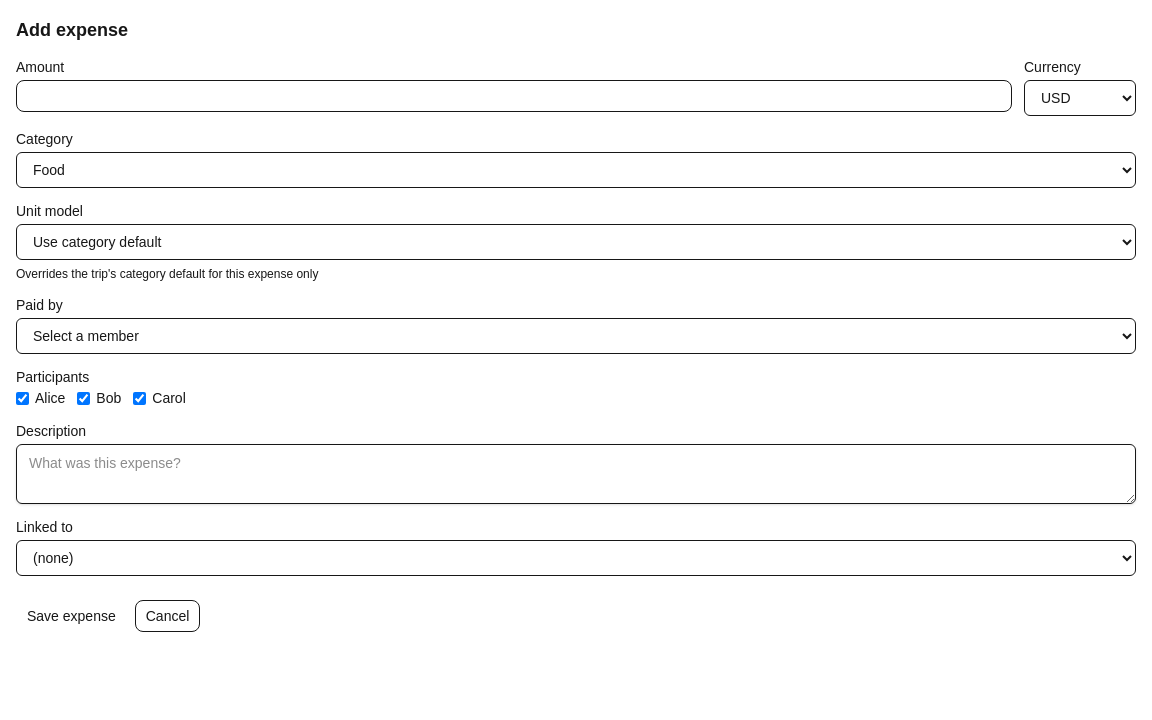
ExpenseEntryFormView — payer validation › shows payer-required error when no payer is selected
Type "42.50" into the number field labelled "Amount".
click(514, 96); type("42.50")  # box [16,80,1012,112]
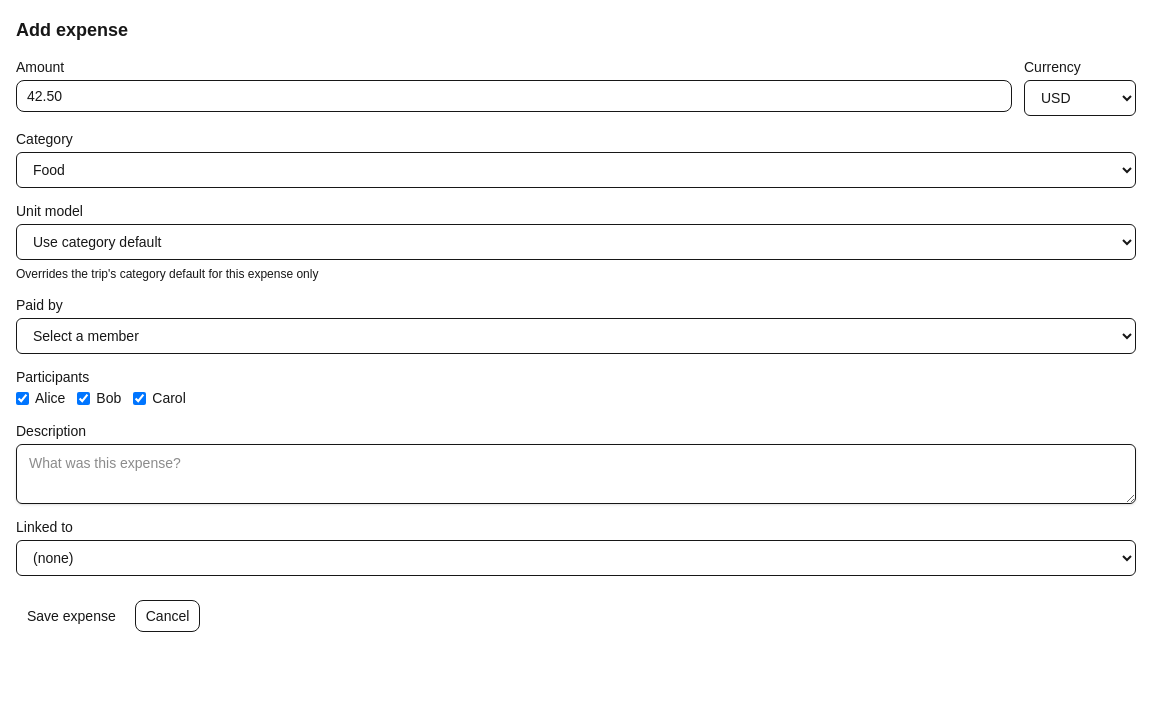
Submit the form with test id "expense-entry-form"
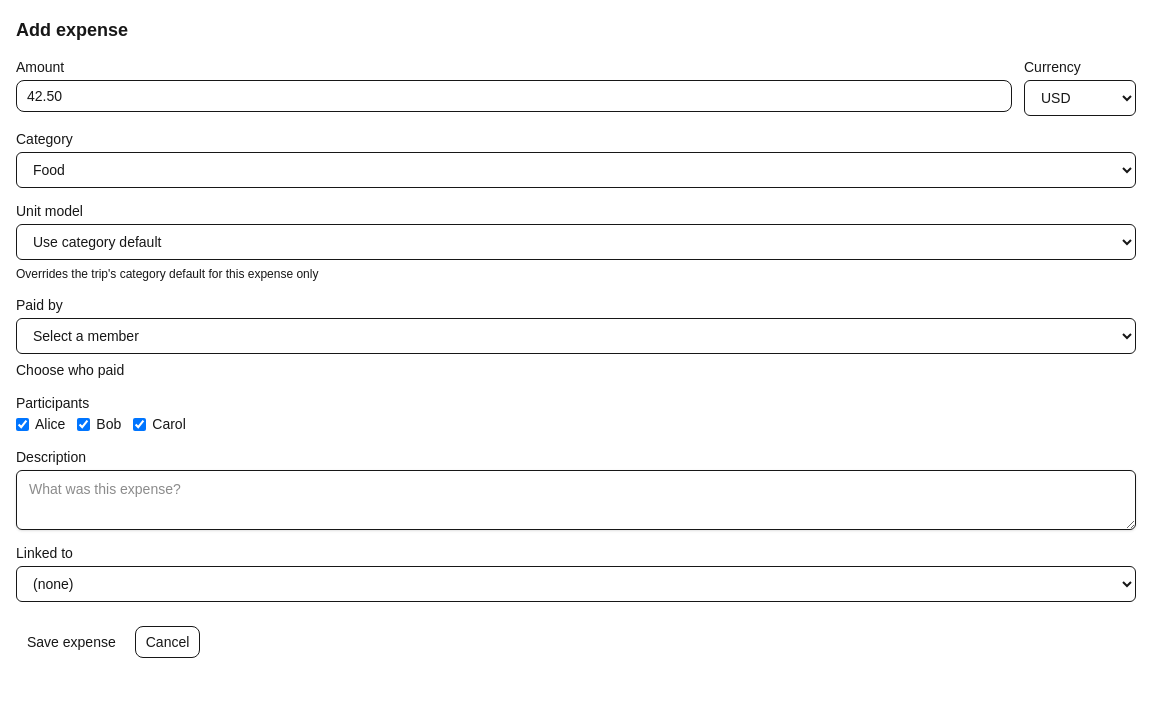
Expected: the text "Choose who paid" is shown, [16,362,124,378]
